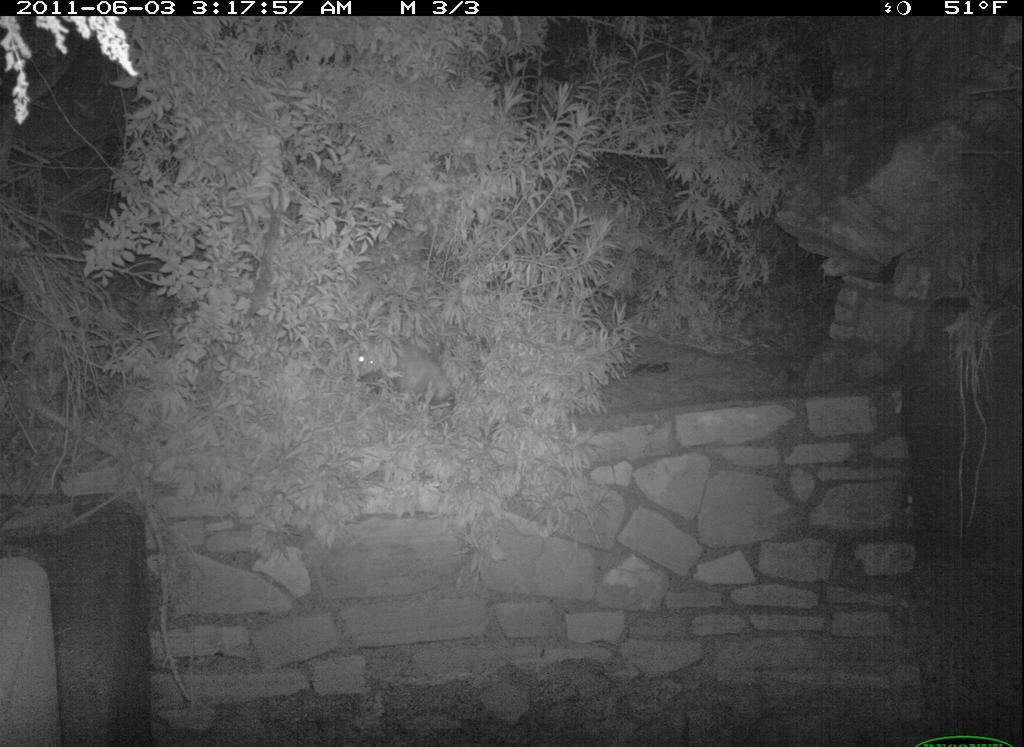opossum: (337, 322, 465, 432)
